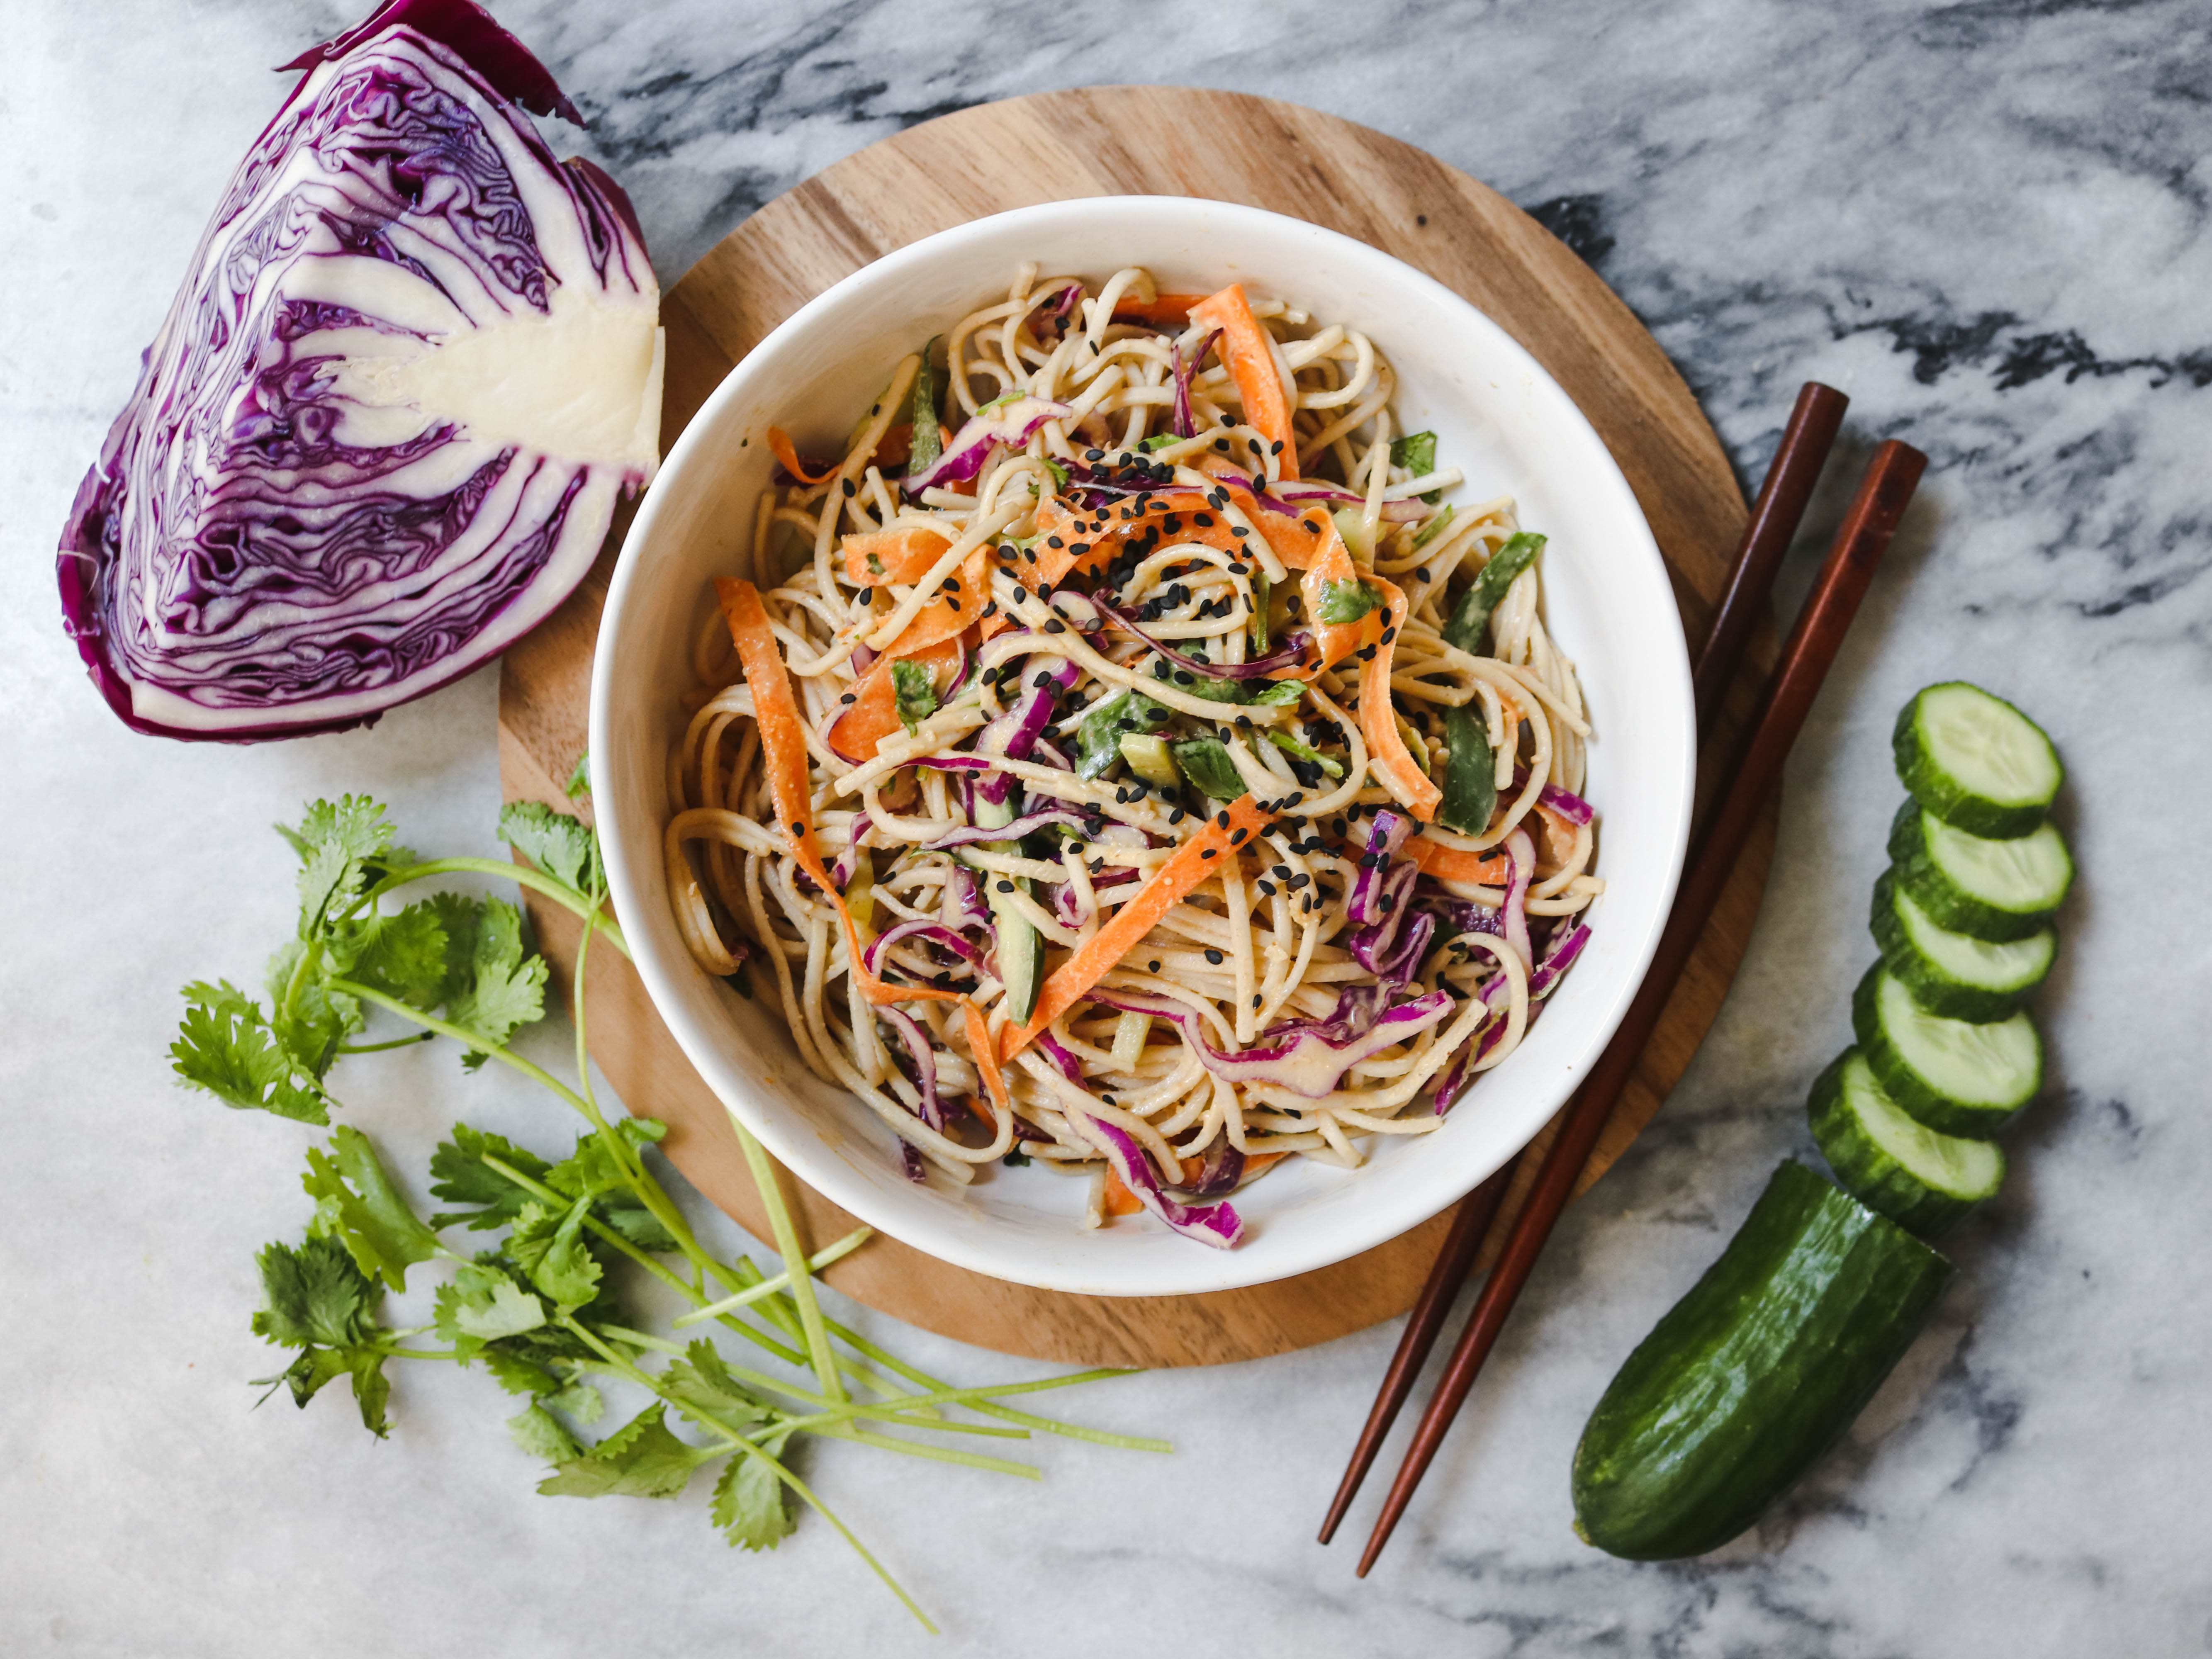Soba: (641, 253, 1645, 1260)
